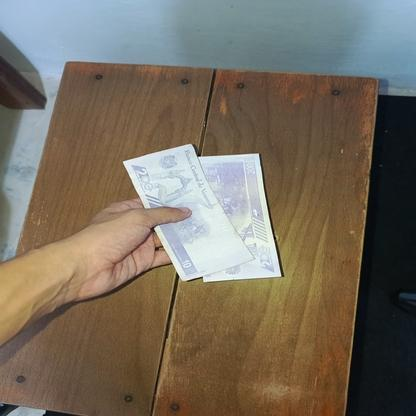vef_back: (122, 142, 254, 283), (197, 153, 282, 283)
